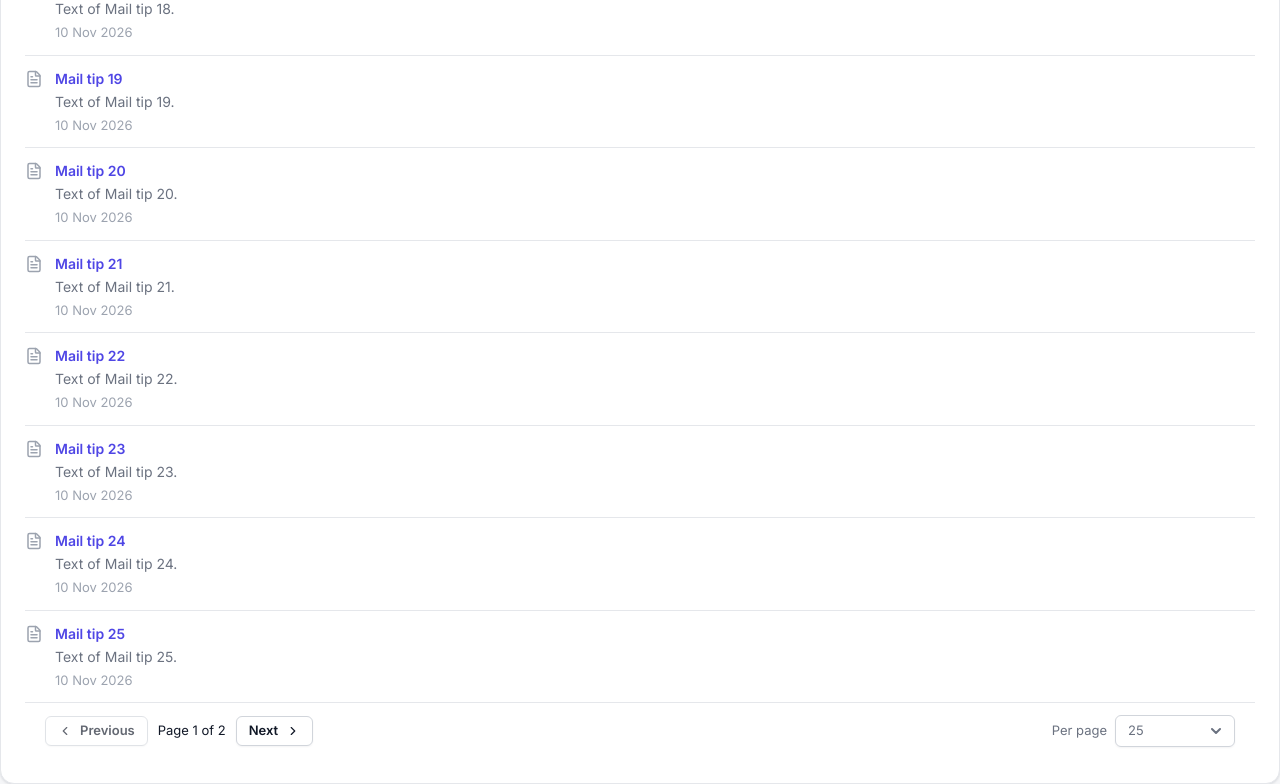
Test: pages are in the URL
(page scrolled)
Click the button "Next".
click(274, 731)  # box [236,716,313,746]
(page scrolled)
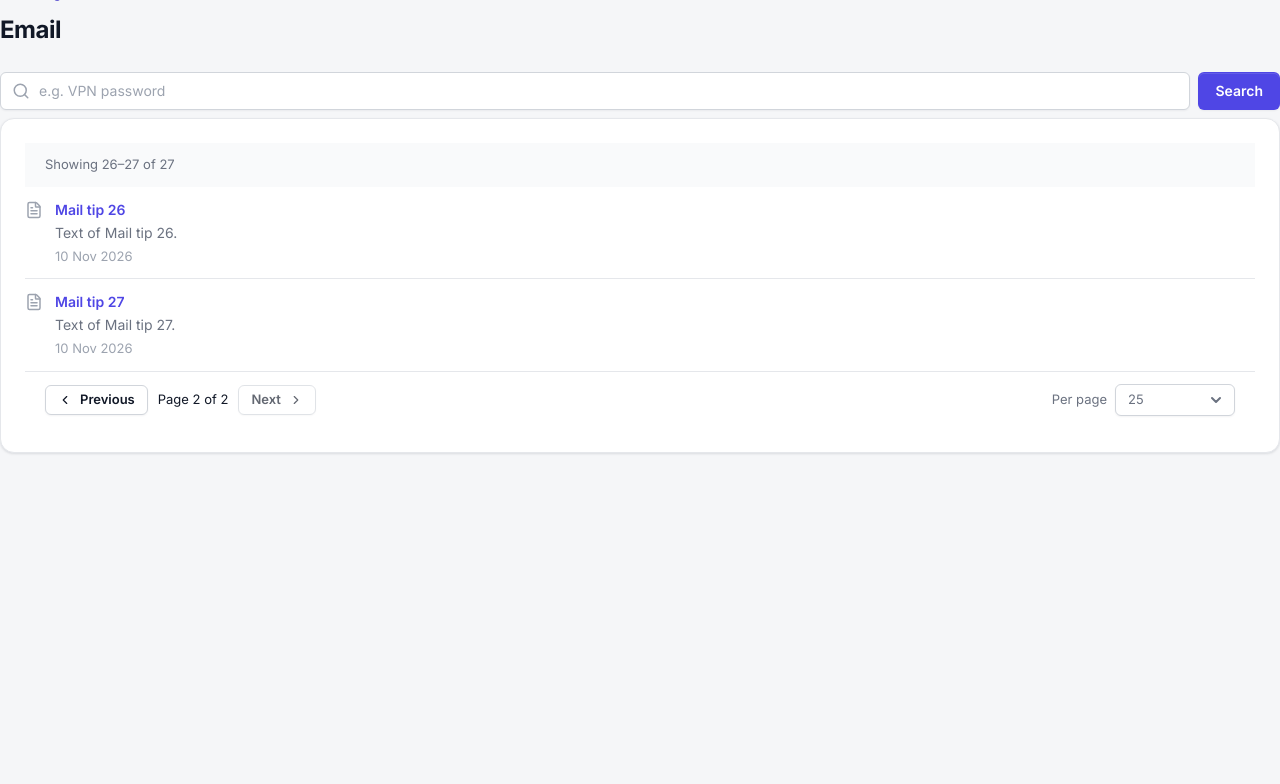
Check: the link "Mail tip 27" is shown, box [55,293,124,310]
